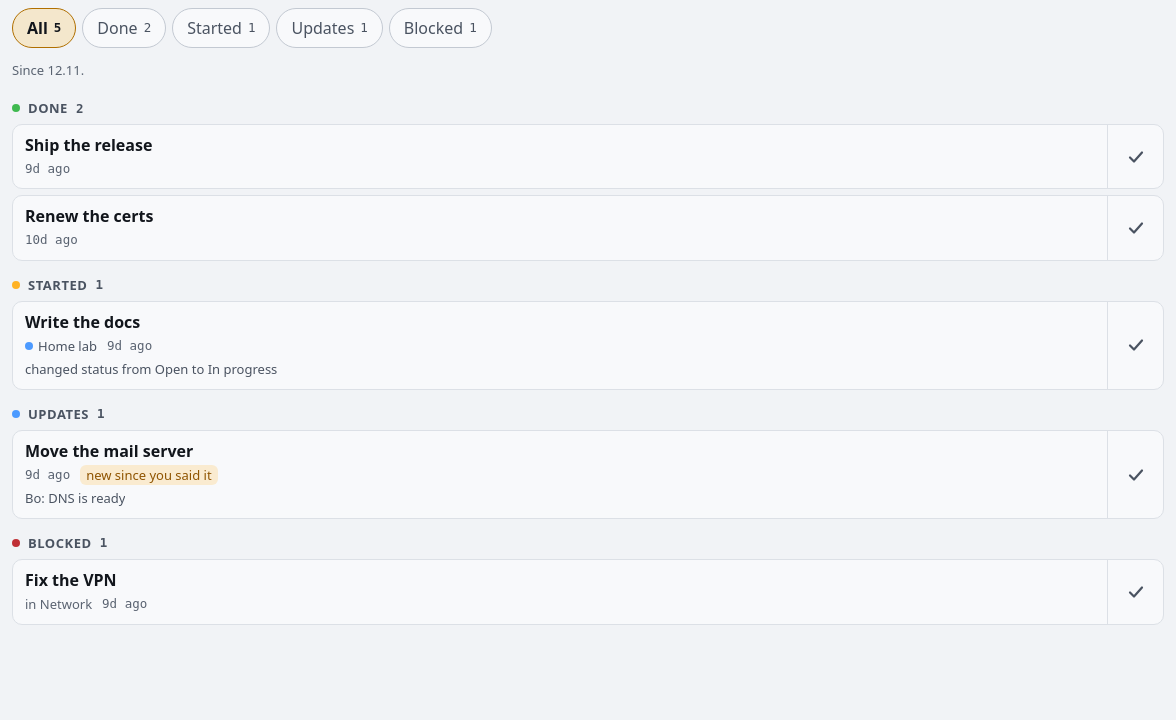
it: standup list › dismisses from the opened row, with an Undo in the toast
Later steps or results of the test are not shown.
Click the button "Move the mail server": click(109, 451) [13,431,1107,518]
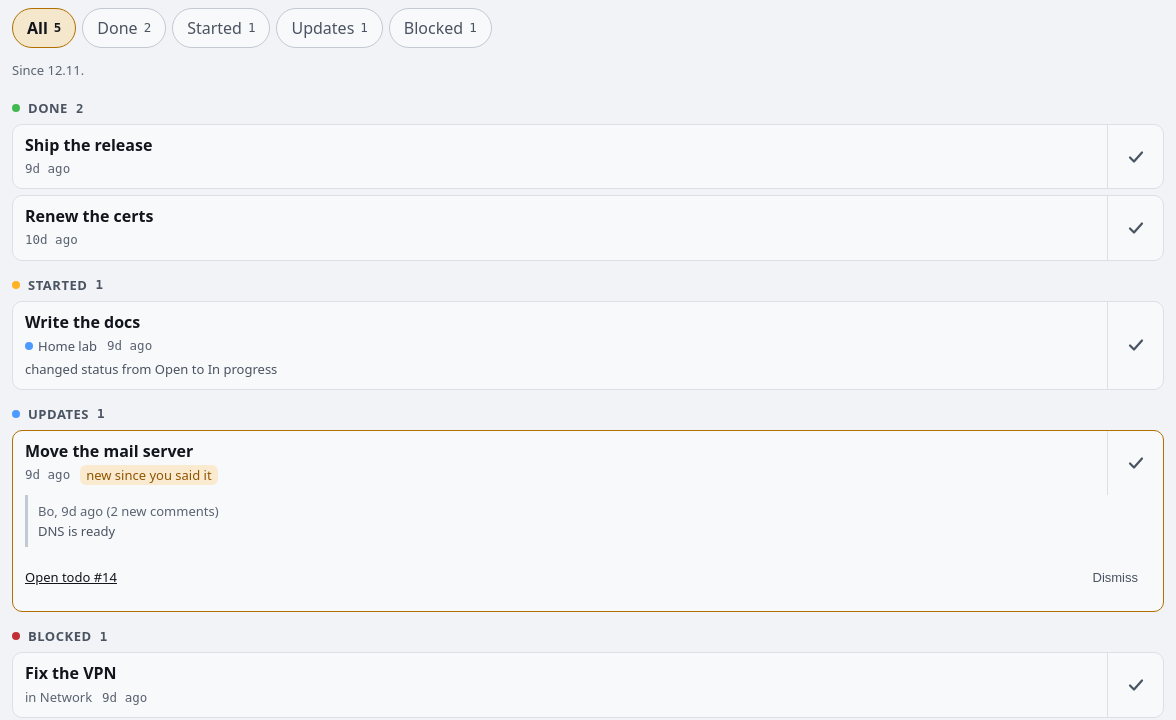
Now the text "Bo, 9d ago (2 new comments)" is shown, box [38,502,219,520]
Click the button "Dismiss": click(1115, 577) [1080,555,1151,599]
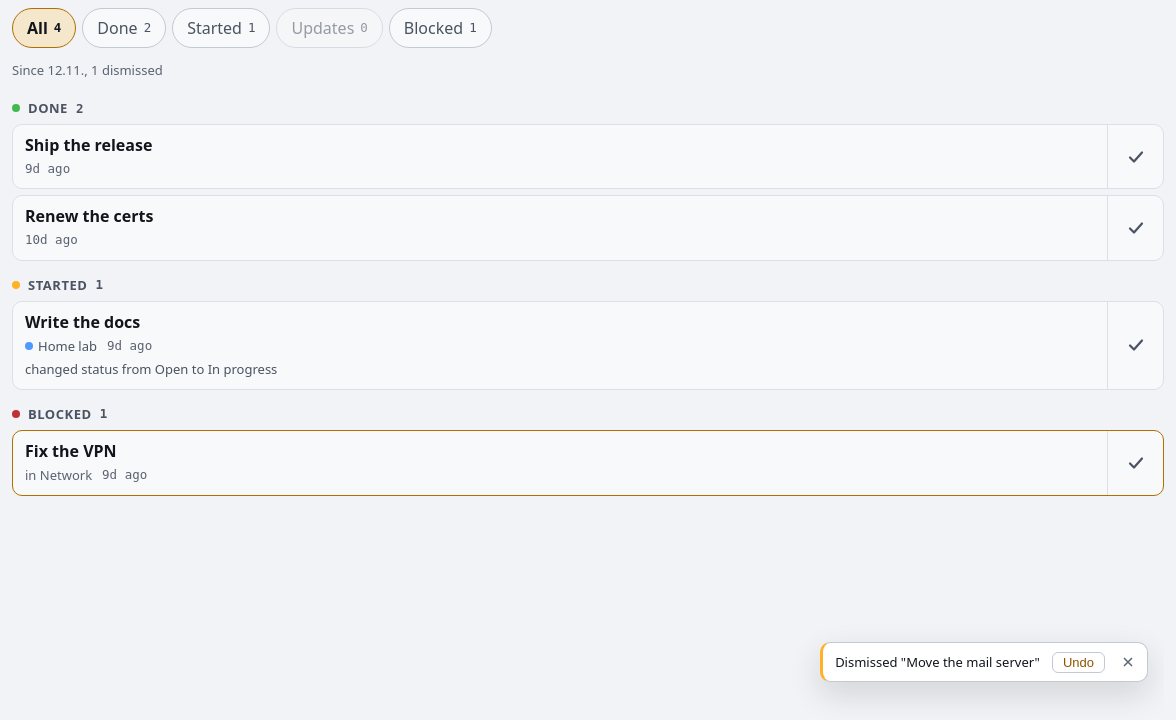
Now the text "Since 12.11., 1 dismissed" is shown, box [12,60,163,80]
Now the message shows "Dismissed \"Move the mail server\"", box [835,653,1040,671]
